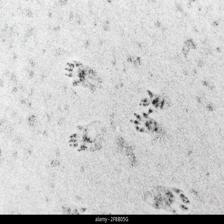squirrel: (135, 88, 170, 114), (129, 110, 162, 136)
